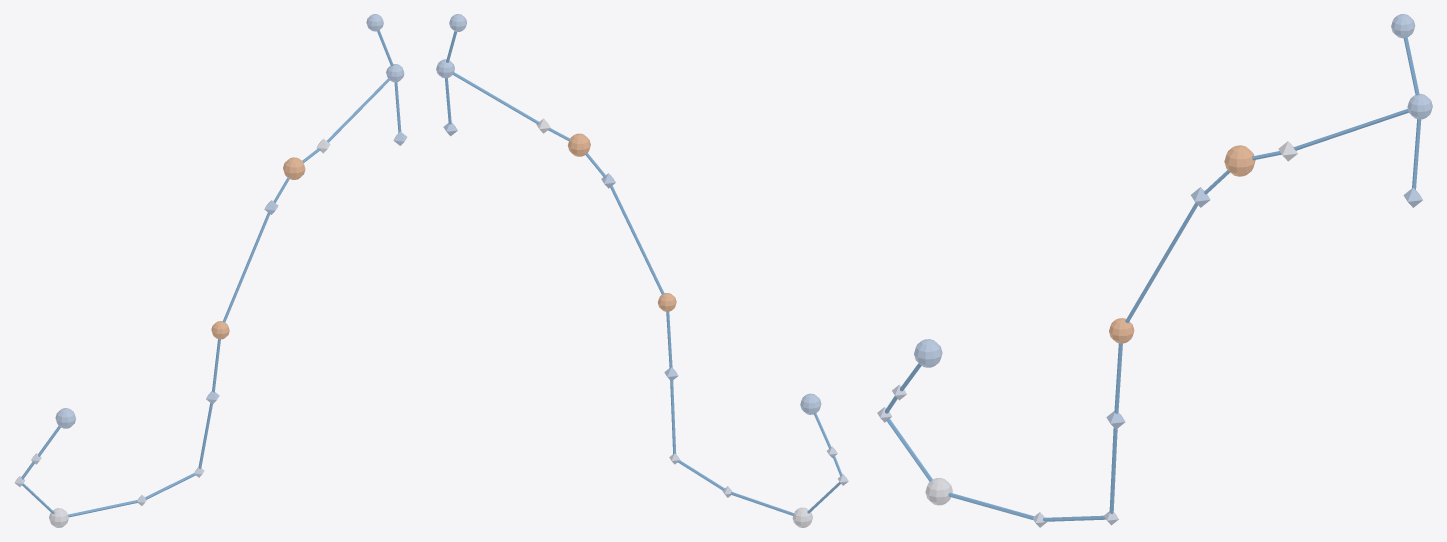
Rendered from constellation-sco.glb.
The picture shows the model from 3 angles, left to right: view 1: azimuth 30°, elevation 25°; view 2: azimuth 150°, elevation 25°; view 3: azimuth 330°, elevation 25°; orthographic projection. The views are drawn at different scales.
Size of the model in its own units: 2.42 by 2.5 by 0.3508.
